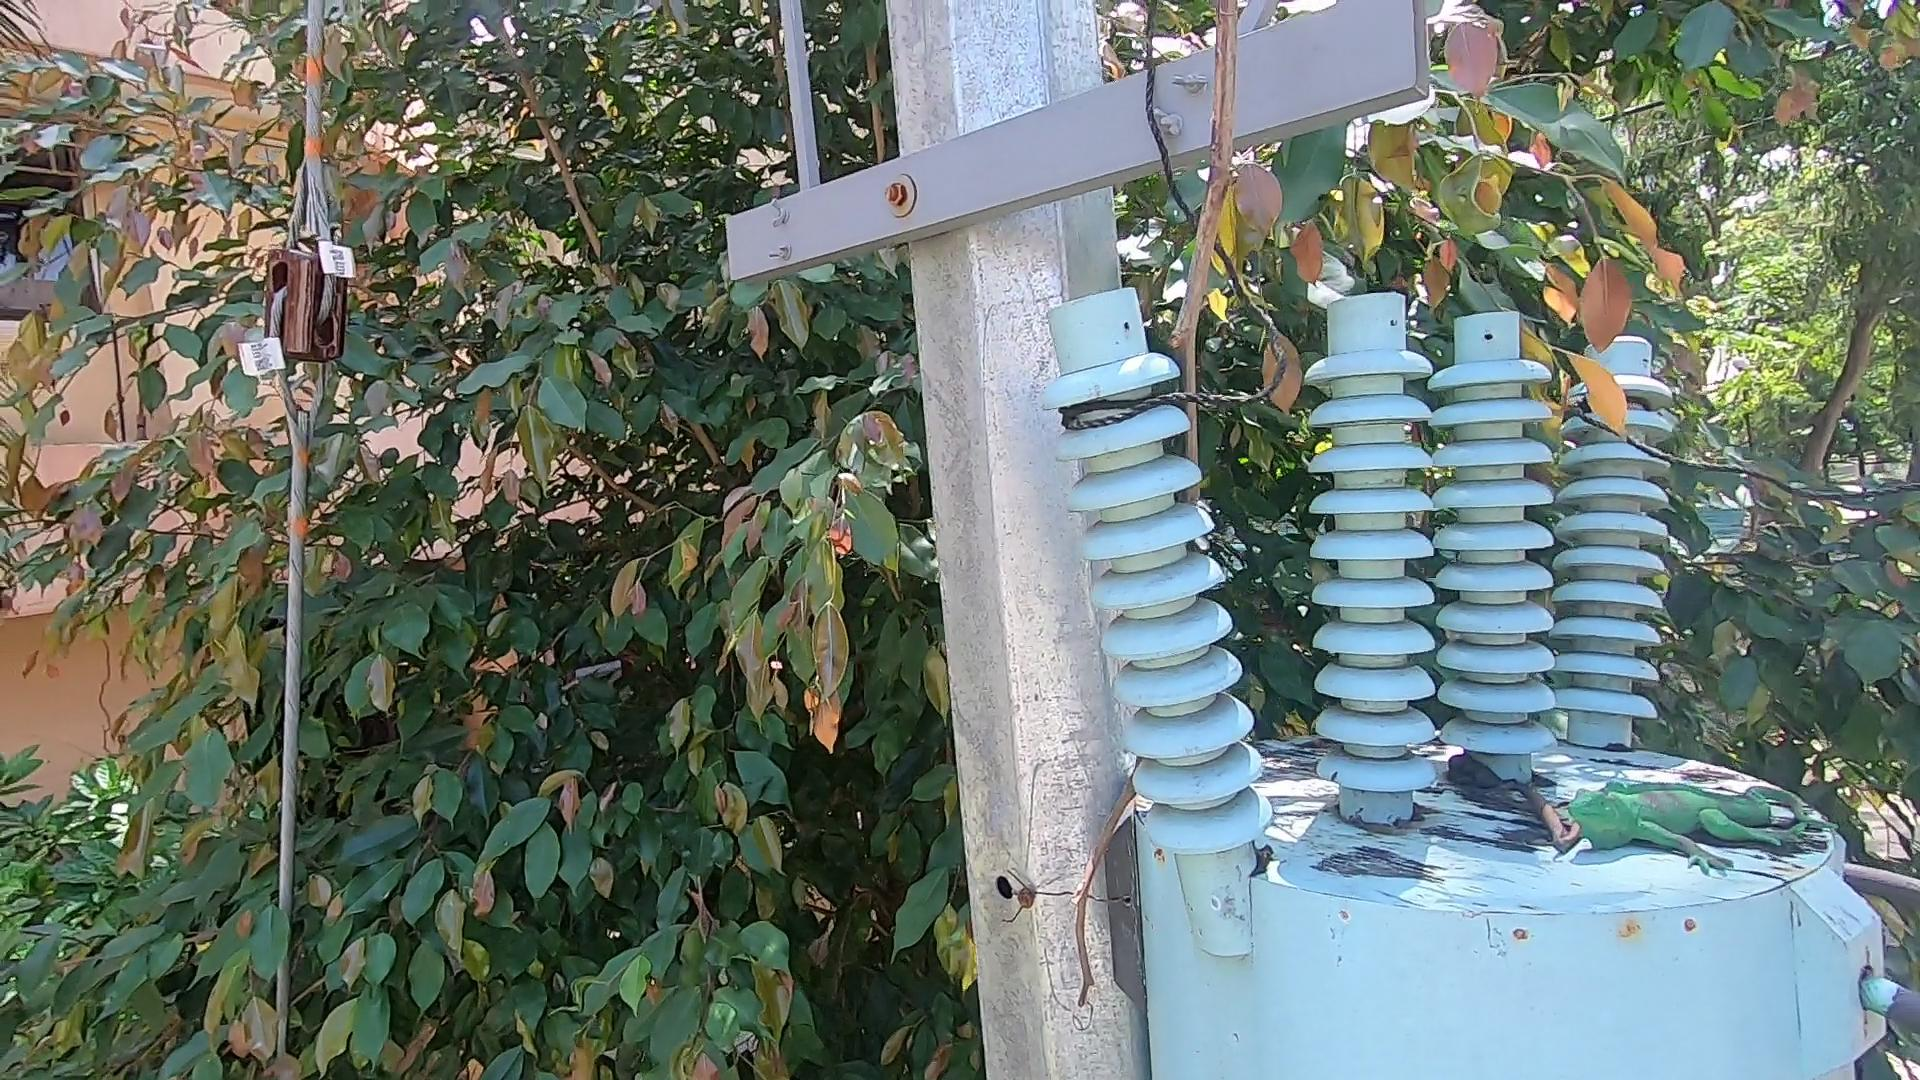branch with leaves: (1460, 291, 1685, 512)
leaf: (1511, 769, 1572, 864), (1429, 750, 1520, 794)
tree branch: (1060, 7, 1222, 1023)
